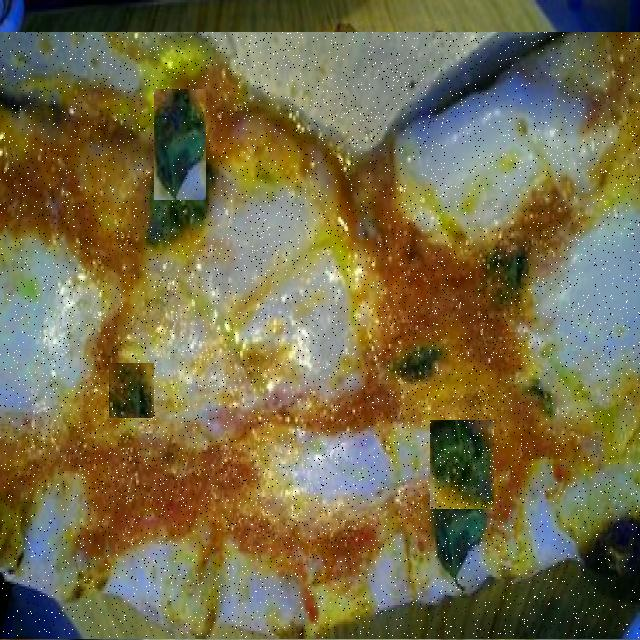Basil: (154, 90, 206, 200), (430, 421, 494, 509), (109, 364, 154, 418), (201, 284, 248, 324)
Pizza: (0, 33, 640, 638)
